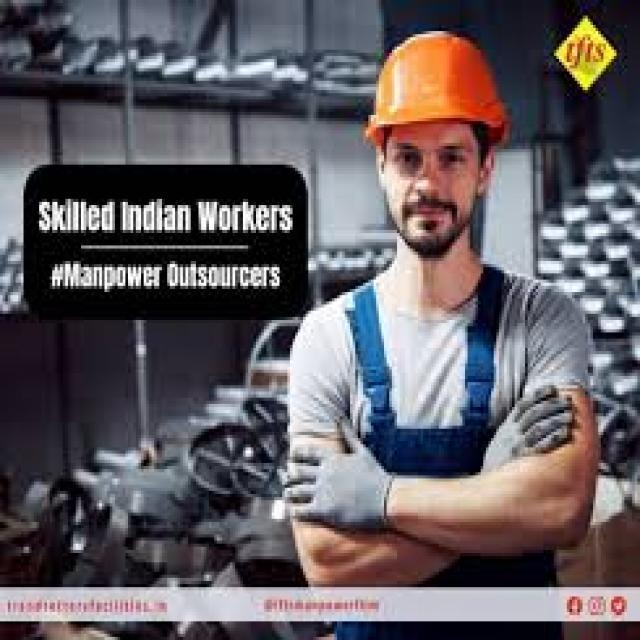safety_helmet: (362, 25, 514, 155)
